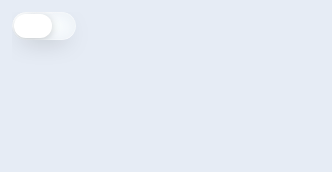
Test: Switch › toggles when uncontrolled
Click the switch named "Dark mode" at (44, 26), box x1=12 y1=12 x2=76 y2=40
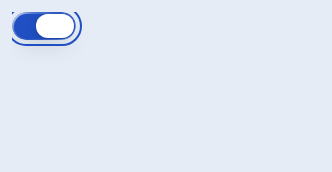
Expected: the switch named "Dark mode" is checked, x1=12 y1=12 x2=76 y2=40
